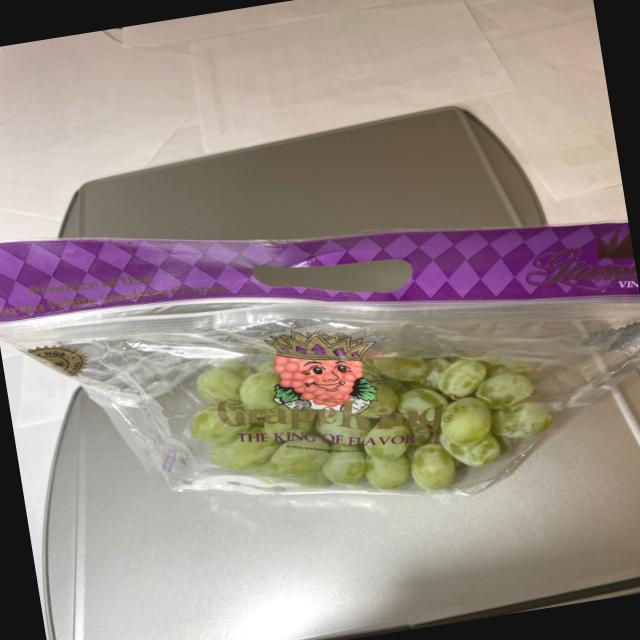grapes: (132, 276, 569, 538)
